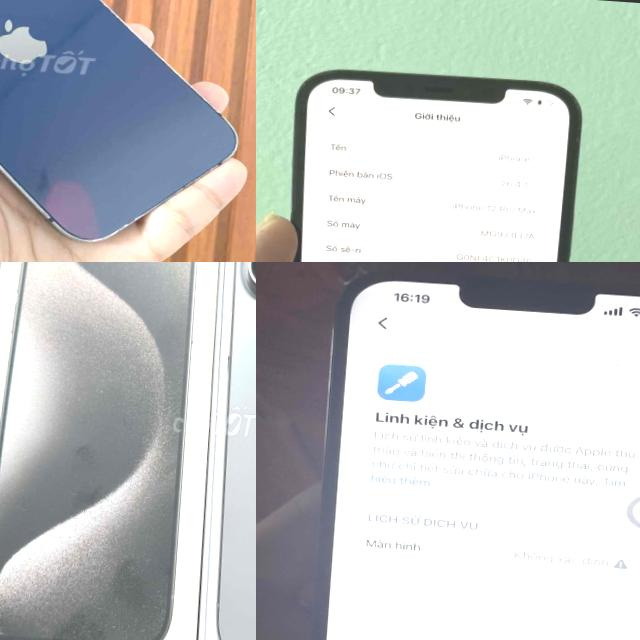scratch: (69, 142, 231, 245)
